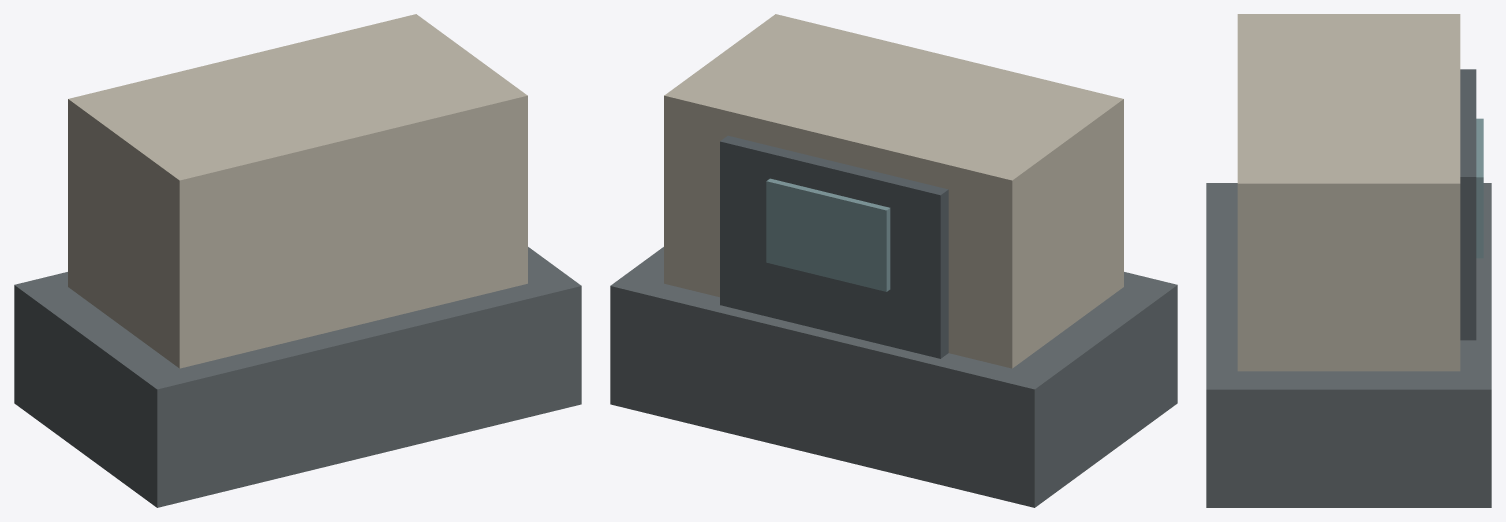
Rendered from iz3_health_instrument_01.glb.
3 renders of one model, left to right at view 1: azimuth 30°, elevation 25°; view 2: azimuth 150°, elevation 25°; view 3: azimuth 270°, elevation 25°, orthographic.
Visible parts, largest first — view 1: cabinet, base; view 2: cabinet, base, panel, display; view 3: cabinet, base, panel, display.
Boxes of the visible parts, x1,y1,x2,y2 form: cabinet: (68,14,527,368); base: (14,247,581,507); cabinet: (664,14,1123,368); base: (610,247,1177,507); panel: (720,135,948,358); display: (766,178,890,291); cabinet: (1237,14,1460,371); base: (1206,183,1491,507); panel: (1460,69,1476,340); display: (1476,118,1483,258).
Size of the model in its own units: 1.2 by 0.828 by 0.7.
